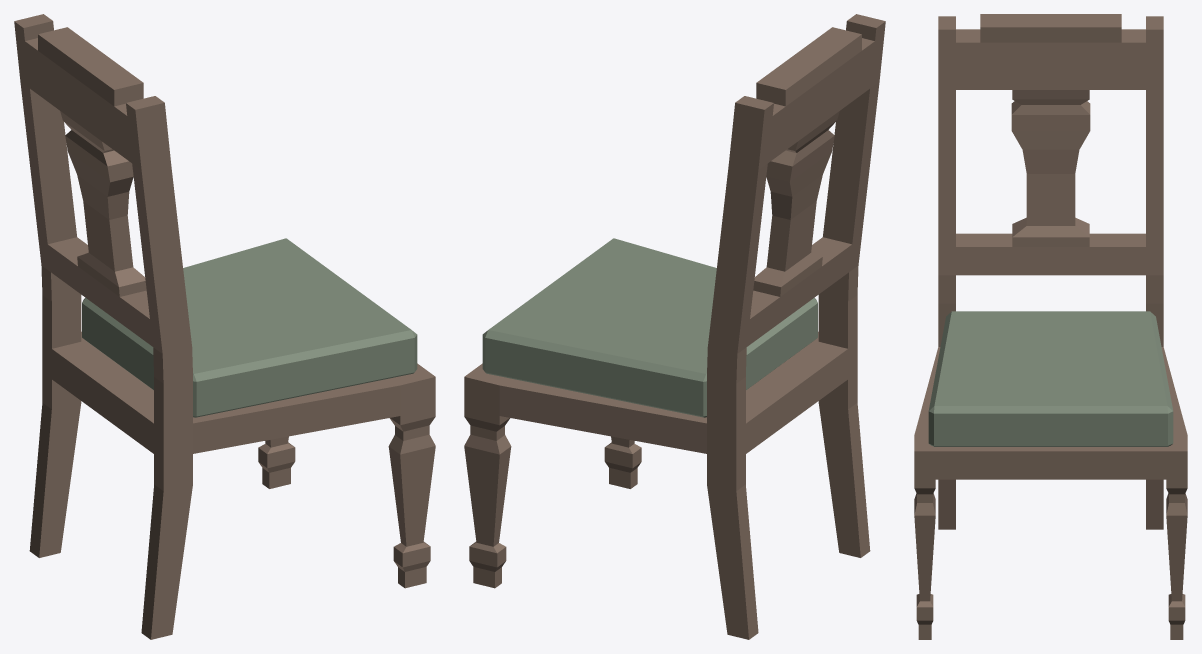
Rendered from chair.fbx.
The picture shows the model from 3 angles, left to right: view 1: azimuth 30°, elevation 25°; view 2: azimuth 150°, elevation 25°; view 3: azimuth 270°, elevation 25°; orthographic projection. The views are drawn at different scales.
Visible parts, largest first — view 1: Cube, Cube.001; view 2: Cube, Cube.001; view 3: Cube, Cube.001.
Part boxes in pixels (x1,y1,x2,y2): Cube: (14, 14, 435, 639); Cube.001: (82, 238, 417, 417); Cube: (464, 14, 885, 639); Cube.001: (482, 238, 817, 417); Cube: (914, 14, 1187, 639); Cube.001: (928, 311, 1173, 446).
Bounding box in the file's own units: 0.5554 × 0.9909 × 0.4916.
